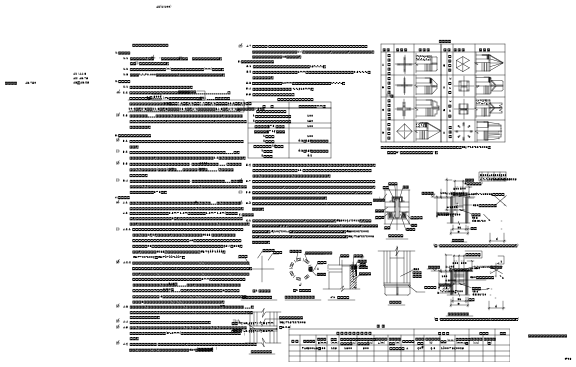corridor: (253, 0, 576, 38)
door: (198, 95, 228, 119), (255, 95, 285, 118), (405, 169, 417, 179), (421, 128, 423, 151), (544, 301, 550, 306), (544, 279, 550, 284), (546, 327, 551, 331), (546, 305, 551, 309), (462, 300, 466, 304), (462, 280, 466, 283), (509, 271, 513, 274), (498, 268, 502, 271), (497, 266, 501, 269), (497, 262, 501, 265), (498, 260, 502, 263), (509, 256, 513, 259), (512, 257, 516, 260), (515, 260, 519, 263), (515, 268, 519, 271), (202, 97, 205, 100), (224, 100, 227, 103), (271, 94, 274, 97), (197, 106, 200, 109), (273, 116, 276, 119), (454, 275, 457, 278), (454, 254, 457, 257), (545, 353, 548, 356), (505, 271, 508, 274), (502, 257, 505, 260), (505, 256, 508, 259), (517, 262, 520, 265), (517, 266, 520, 269), (544, 272, 547, 275), (555, 318, 558, 321), (512, 271, 516, 273), (214, 95, 217, 97), (259, 97, 262, 99), (281, 100, 284, 102), (254, 106, 257, 108), (203, 115, 206, 117), (225, 110, 228, 112), (282, 110, 285, 112), (260, 115, 263, 117), (545, 333, 548, 335), (502, 271, 505, 273), (216, 117, 218, 119)
room: (387, 252, 568, 365), (193, 235, 314, 292), (492, 279, 524, 305), (530, 208, 570, 218), (498, 334, 517, 351), (511, 120, 536, 128), (119, 301, 131, 311)
staircase: (251, 92, 289, 122), (194, 92, 232, 122), (495, 255, 522, 276)
wall: (18, 287, 188, 301), (416, 152, 424, 170), (558, 113, 567, 122), (53, 302, 66, 308), (502, 191, 526, 194), (404, 184, 408, 189), (414, 184, 418, 189), (2, 283, 6, 287), (52, 350, 56, 353), (2, 310, 6, 313), (2, 228, 5, 232), (2, 183, 5, 187), (2, 114, 5, 118), (181, 364, 185, 367), (181, 182, 184, 186), (1, 309, 6, 311), (0, 254, 5, 256), (0, 228, 5, 230), (0, 208, 5, 210), (0, 183, 5, 185), (0, 152, 5, 154), (0, 63, 5, 65), (0, 39, 5, 41), (180, 363, 185, 365), (0, 283, 5, 285), (0, 46, 5, 48), (51, 349, 56, 351), (92, 349, 97, 351), (28, 343, 33, 345), (0, 114, 5, 116), (0, 21, 5, 23), (2, 255, 5, 258), (2, 64, 5, 67), (2, 47, 5, 50), (181, 208, 184, 211), (2, 40, 5, 43), (2, 22, 5, 25), (180, 207, 184, 209), (180, 194, 184, 196), (180, 182, 184, 184), (171, 46, 175, 48), (0, 242, 5, 243)
window: (214, 95, 217, 97), (282, 110, 285, 112), (260, 97, 262, 99), (282, 100, 284, 102), (255, 106, 257, 108), (204, 115, 206, 117), (216, 117, 218, 119), (261, 115, 263, 117), (461, 351, 463, 353), (461, 333, 463, 335), (461, 325, 463, 327), (461, 307, 463, 309), (202, 98, 204, 99), (225, 101, 227, 102), (272, 95, 274, 96), (198, 107, 200, 108), (225, 111, 227, 112), (273, 117, 275, 118), (205, 97, 206, 98), (217, 96, 218, 97), (262, 97, 263, 98), (214, 118, 215, 119), (282, 112, 283, 113), (255, 105, 256, 106), (283, 102, 284, 103), (310, 104, 311, 105), (310, 106, 311, 107), (351, 104, 352, 105), (351, 106, 352, 107), (403, 166, 404, 167), (422, 166, 423, 167), (418, 166, 419, 167), (420, 166, 421, 167), (226, 103, 227, 103), (274, 96, 275, 96), (198, 106, 199, 106), (203, 115, 203, 115), (225, 113, 226, 113), (283, 106, 283, 107), (260, 115, 261, 115), (272, 118, 272, 118), (286, 106, 286, 107), (311, 105, 311, 105), (351, 105, 352, 105), (402, 166, 402, 167), (400, 166, 400, 167), (403, 172, 403, 172), (401, 172, 401, 172), (421, 172, 422, 172), (419, 172, 420, 172)
